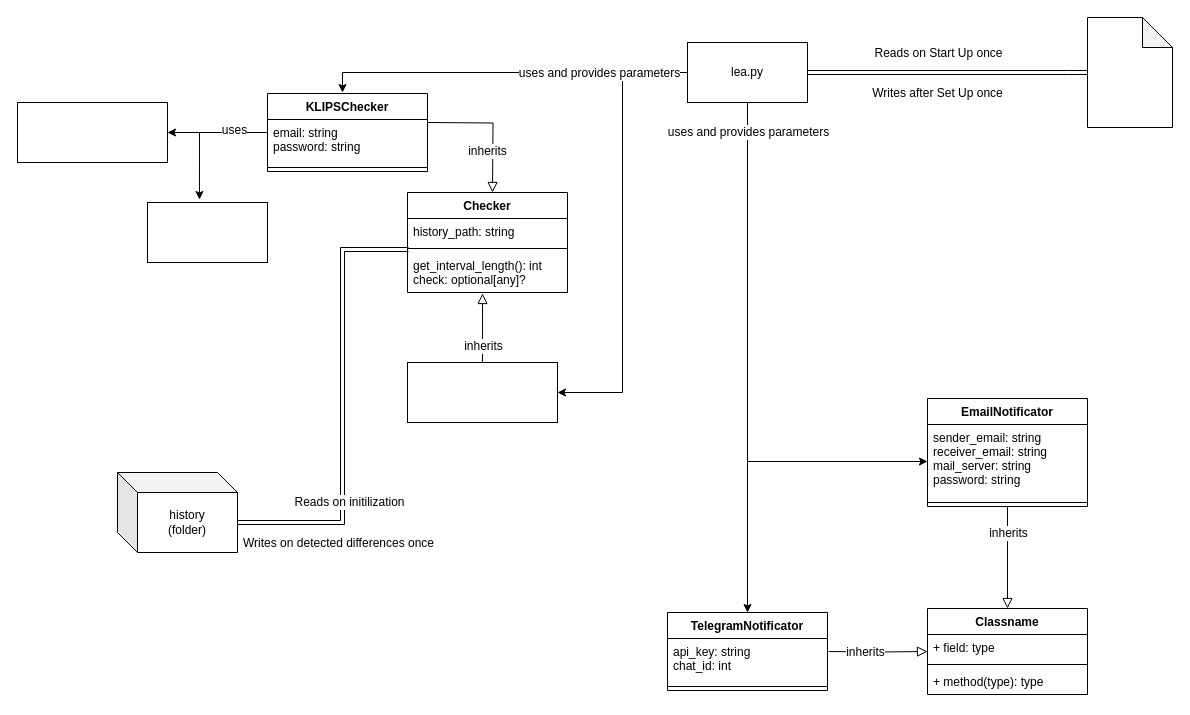
The diagram is 1190 pixels wide and 715 high, and some of its shapes have lost their labels. Each missing label, with the centre of its shape:
"get_diff.py" belongs at [207,232].
"http_equiv_redirect.py" belongs at [92,132].
"lea.conf (json format)" belongs at [1129,72].
"SVNChecker (soon)" belongs at [482,392].
